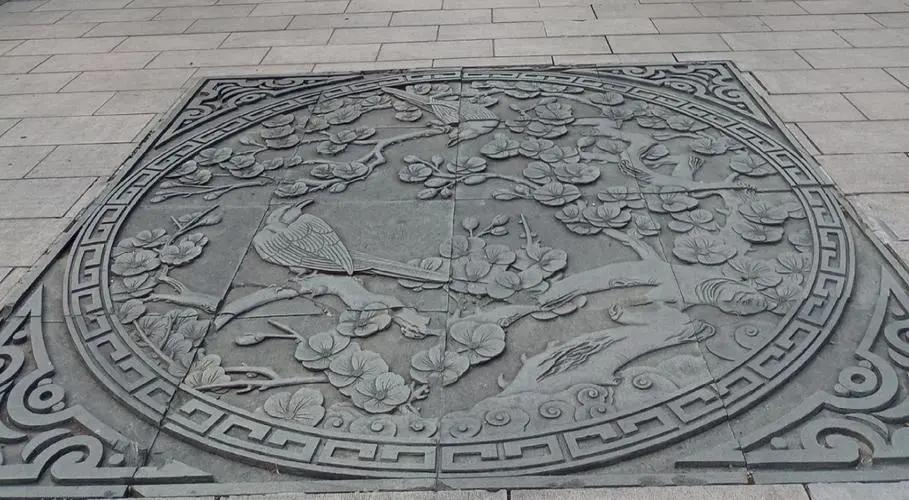wellcover: (0, 41, 909, 500)
